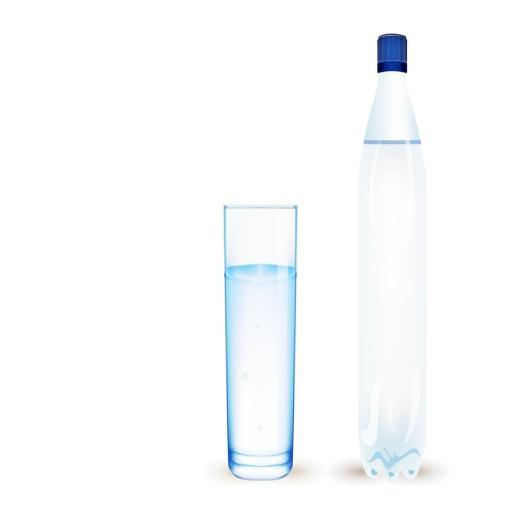bottle: (354, 23, 430, 497)
